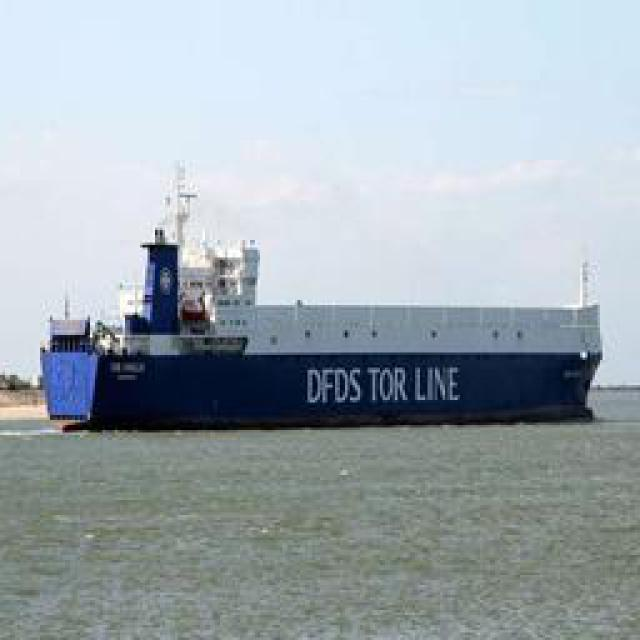Ship: (33, 140, 601, 428)
